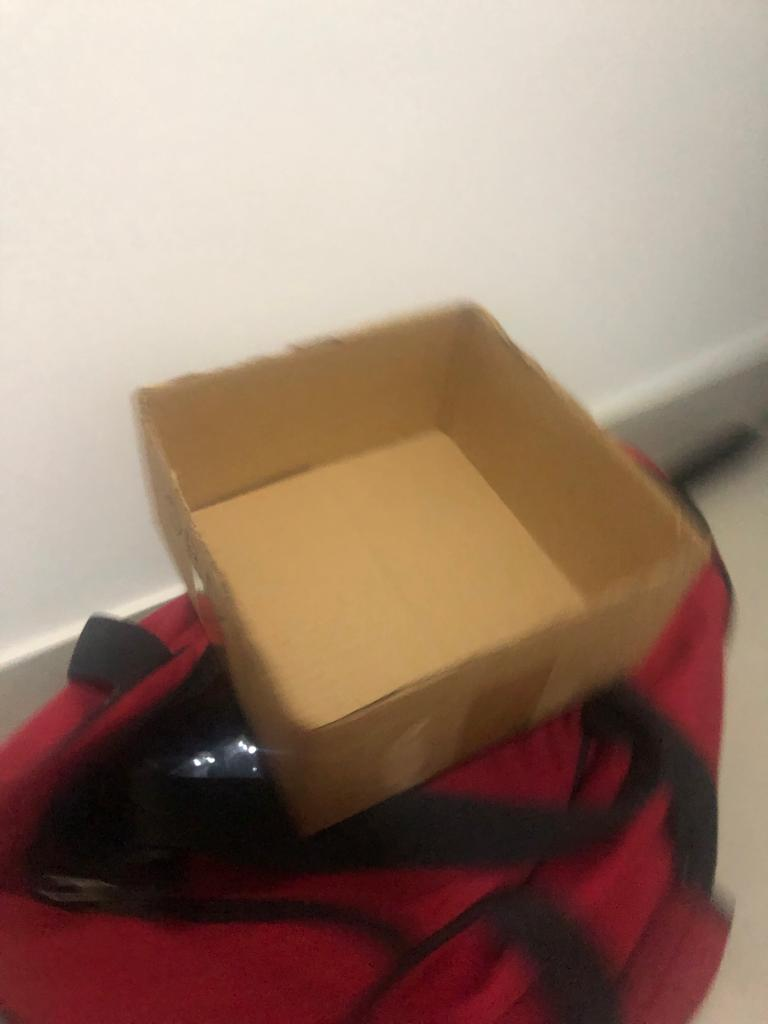CBox: (130, 302, 724, 827)
